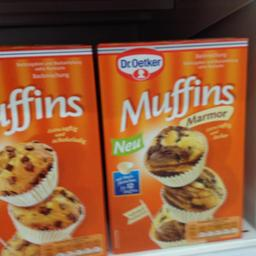cake: (96, 38, 250, 254), (0, 44, 94, 254)
